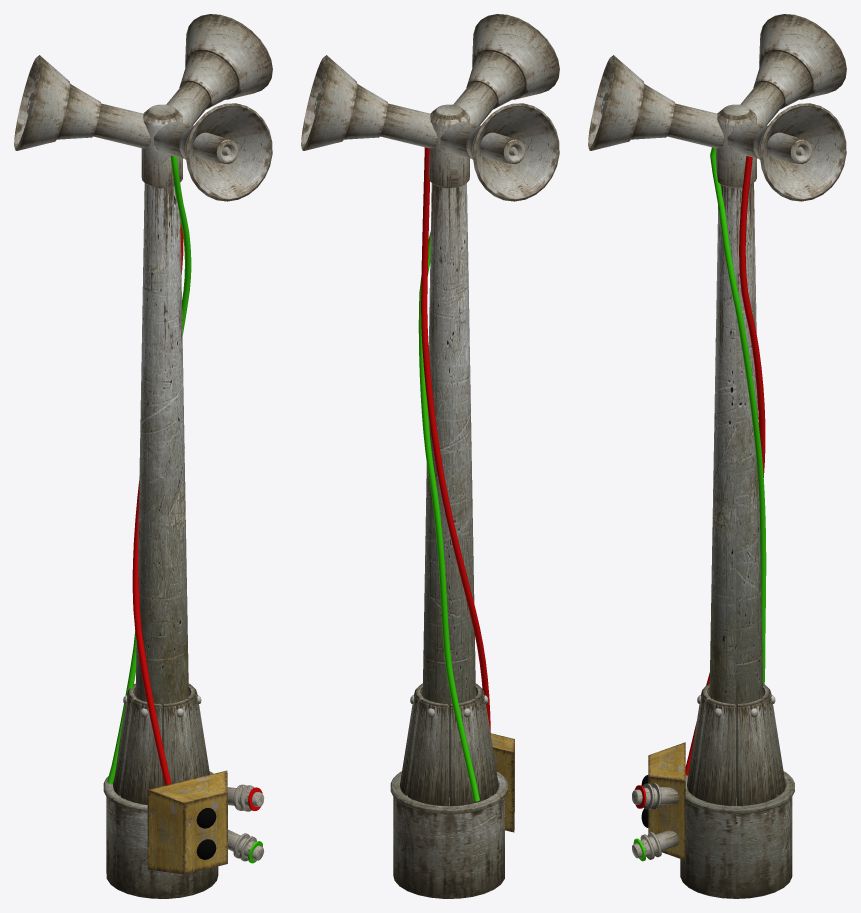
Rendered from static.glb.
The picture shows the model from 3 angles, left to right: view 1: azimuth 30°, elevation 25°; view 2: azimuth 150°, elevation 25°; view 3: azimuth 270°, elevation 25°; orthographic projection.
Parts seen in each view (by area): view 1: Cylinder_1_3, Cube, Cylinder_3_5, Cylinder, Cylinder_3_9, Cylinder_3_7, Cube_3, Cube_2, Cylinder_2_7, Sweep_1, Cylinder_6, Sweep (+8 smaller); view 2: Cylinder_1_3, Cylinder, Cylinder_3_7, Cylinder_3_5, Sweep_1, Cube_5, Cylinder_3_9, Sweep, Cube_4, Cylinder_2_7, Cylinder_4_3, Cylinder_3_8 (+8 smaller); view 3: Cylinder_1_3, Cylinder, Cylinder_3_9, Cylinder_3_7, Cube_6, Cube_7, Cylinder_3_5, Sweep, Cube, Sweep_1, Cylinder_2_7, Cylinder_5 (+9 smaller).
Part boxes in pixels (x1,y1,x2,y2): Cylinder_1_3: [135, 183, 188, 786]; Cube: [147, 770, 227, 874]; Cylinder_3_5: [185, 103, 272, 201]; Cylinder: [106, 795, 218, 898]; Cylinder_3_9: [185, 14, 272, 99]; Cylinder_3_7: [14, 55, 70, 150]; Cube_3: [121, 698, 161, 804]; Cube_2: [162, 698, 201, 785]; Cylinder_2_7: [141, 104, 182, 188]; Sweep_1: [132, 222, 183, 785]; Cylinder_6: [179, 51, 237, 109]; Sweep: [107, 155, 191, 783]; Cylinder_1_3: [422, 183, 475, 797]; Cylinder: [393, 795, 504, 898]; Cylinder_3_7: [472, 103, 559, 201]; Cylinder_3_5: [472, 14, 559, 99]; Sweep_1: [421, 147, 490, 734]; Cube_5: [408, 698, 448, 805]; Cylinder_3_9: [301, 55, 357, 150]; Sweep: [418, 232, 479, 801]; Cube_4: [449, 698, 490, 805]; Cylinder_2_7: [428, 104, 469, 188]; Cylinder_4_3: [466, 51, 524, 109]; Cylinder_3_8: [380, 103, 437, 148]; Cylinder_1_3: [709, 183, 762, 797]; Cylinder: [680, 795, 792, 898]; Cylinder_3_9: [759, 103, 846, 201]; Cylinder_3_7: [759, 14, 846, 99]; Cube_6: [736, 698, 777, 805]; Cube_7: [695, 698, 735, 805]; Cylinder_3_5: [588, 55, 644, 150]; Sweep: [710, 147, 766, 683]; Cube: [648, 742, 685, 860]; Sweep_1: [685, 156, 765, 775]; Cylinder_2_7: [716, 104, 756, 188]; Cylinder_5: [753, 51, 811, 109].
Size of the model in its own units: 2.24 by 7 by 2.01.
8 materials, 8 textured.
